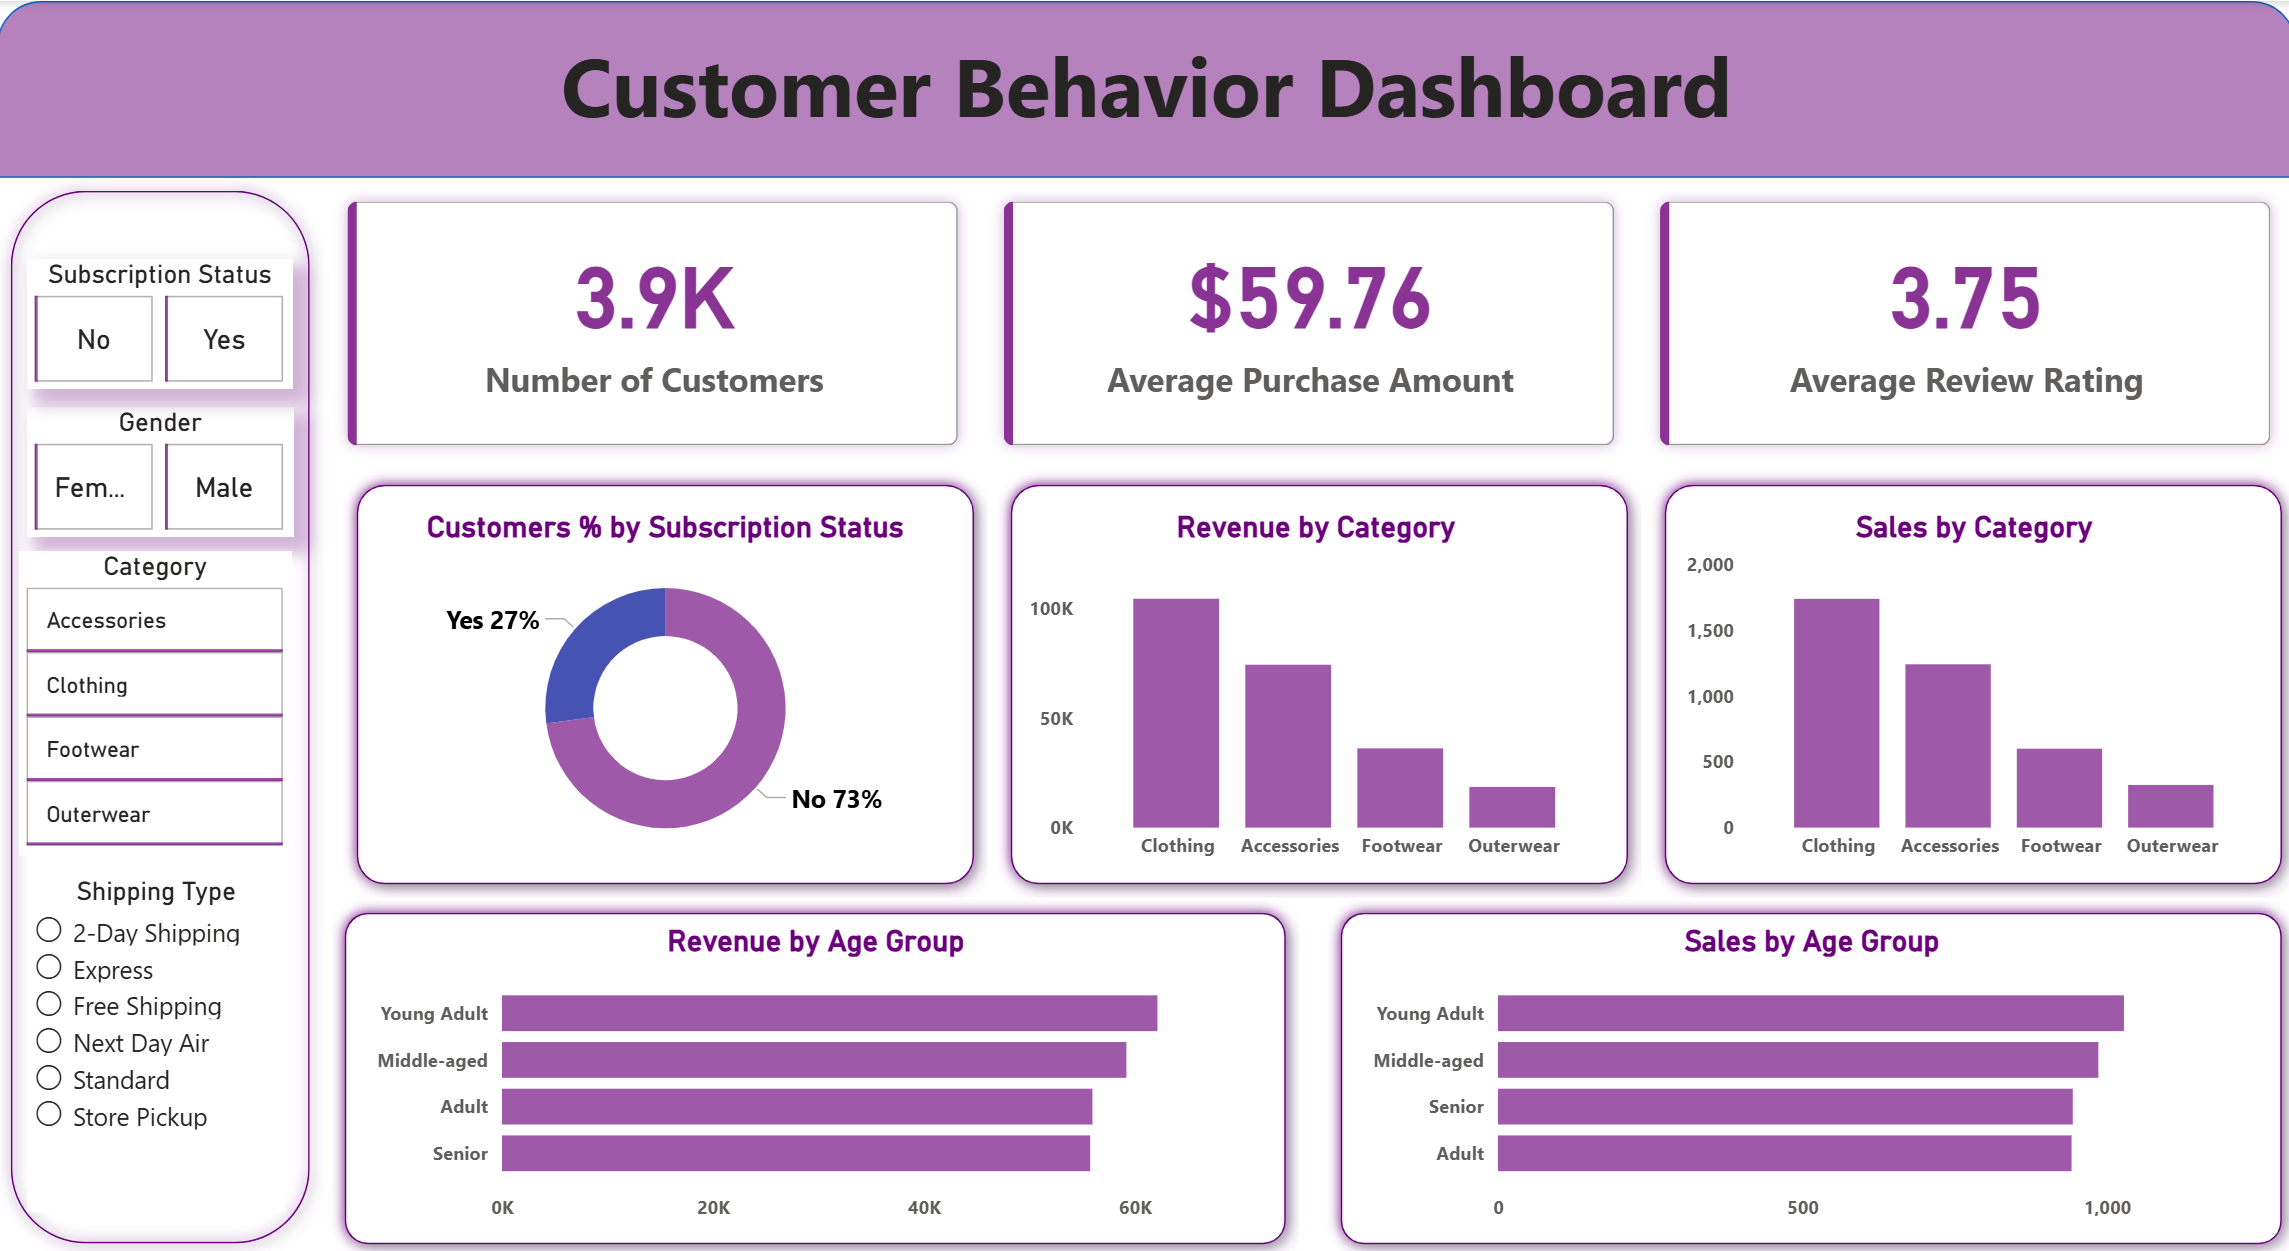

What the dashboard file says about the page in this screenshot:
{"tool":"powerbi","page":{"name":"Page 1","canvas":[1500,820],"ordinal":0},"visuals":[{"type":"cardVisual","fields":{"Data":["public customer.Number of Customers","public customer.Average Purchase Amount","public customer.Average Review Rating"]},"box":[212.9,115.3,1286.5,191.6],"z":2000},{"type":"shape","box":[218.3,585.6,631.7,234.2],"z":2500,"group":"g1"},{"type":"shape","box":[0,0,1499.4,115.3],"z":3000},{"type":"textbox","box":[0,12.4,1499.4,102.9],"z":4000},{"type":"shape","box":[225.4,307,420.5,278.6],"z":5000},{"type":"donutChart","title":" Customers % by Subscription Status","fields":{"Category":["public customer.subscription_status"],"Y":["CountNonNull(public customer.customer_id)"]},"box":[248.4,331.8,376.2,237.8],"z":6000},{"type":"shape","box":[1078.9,307,420.5,278.6],"z":7000},{"type":"shape","box":[652.1,307,420.5,278.6],"z":8000},{"type":"clusteredColumnChart","title":"Revenue by Category","fields":{"Y":["Sum(public customer.purchase_amount)"],"Category":["public customer.category"]},"box":[667.2,331.8,385.1,237.8],"z":9000},{"type":"clusteredColumnChart","title":"Sales by Category","fields":{"Y":["CountNonNull(public customer.customer_id)"],"Category":["public customer.category"]},"box":[1096.6,331.8,385.1,237.8],"z":10000},{"type":"shape","box":[0,115.3,212.9,704.5],"z":11000},{"type":"advancedSlicerVisual","fields":{"Values":["public customer.subscription_status"]},"box":[19.4,168.8,173.3,85.2],"z":12000},{"type":"advancedSlicerVisual","fields":{"Values":["public customer.gender"]},"box":[19.5,264.4,173.9,85.2],"z":13000},{"type":"advancedSlicerVisual","fields":{"Values":["public customer.category"]},"box":[14.9,358.6,177.8,198.7],"z":14000},{"type":"listSlicer","fields":{"Values":["public customer.shipping_type"]},"box":[19.5,569.6,168.6,220],"z":15000},{"type":"shape","box":[867.7,585.6,631.7,234.2],"z":16000},{"type":"clusteredBarChart","title":"Sales by Age Group","fields":{"Y":["CountNonNull(public customer.customer_id)"],"Category":["public customer.age_group"]},"box":[890.8,601.5,585.6,204.1],"z":17000},{"type":"clusteredBarChart","title":"Revenue by Age Group","fields":{"Y":["Sum(public customer.purchase_amount)"],"Category":["public customer.age_group"]},"box":[241.4,601.6,585.6,204.1],"z":17500,"group":"g1"},{"type":"group","id":"g1","title":"Group 1","box":[218.3,585.6,631.7,234.2],"z":17501}]}

Visuals, with their boxes in screenshot pixels (x1, y1, x2, y2), scaled from the page's 1500x820 canvas onto the 2289x1251 screenshot:
cardVisual - public customer.Number of Customers x public customer.Average Purchase Amount: left=325, top=176, right=2288, bottom=468
shape: left=333, top=893, right=1297, bottom=1250
shape: left=0, top=0, right=2288, bottom=176
textbox: left=0, top=19, right=2288, bottom=176
shape: left=344, top=468, right=986, bottom=893
" Customers % by Subscription Status" donutChart: left=379, top=506, right=953, bottom=869
shape: left=1646, top=468, right=2288, bottom=893
shape: left=995, top=468, right=1637, bottom=893
"Revenue by Category" clusteredColumnChart: left=1018, top=506, right=1606, bottom=869
"Sales by Category" clusteredColumnChart: left=1673, top=506, right=2261, bottom=869
shape: left=0, top=176, right=325, bottom=1250
advancedSlicerVisual - public customer.subscription_status: left=30, top=258, right=294, bottom=388
advancedSlicerVisual - public customer.gender: left=30, top=403, right=295, bottom=533
advancedSlicerVisual - public customer.category: left=23, top=547, right=294, bottom=850
listSlicer - public customer.shipping_type: left=30, top=869, right=287, bottom=1205
shape: left=1324, top=893, right=2288, bottom=1250
"Sales by Age Group" clusteredBarChart: left=1359, top=918, right=2253, bottom=1229
"Revenue by Age Group" clusteredBarChart: left=368, top=918, right=1262, bottom=1229
"Group 1" group: left=333, top=893, right=1297, bottom=1250
